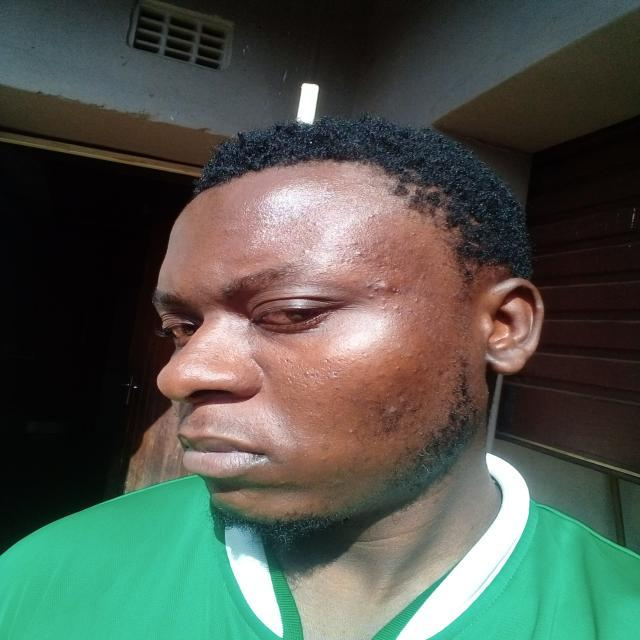acne: (376, 278, 394, 294), (364, 282, 378, 300), (384, 404, 400, 418), (300, 246, 312, 256), (342, 428, 355, 436), (354, 250, 366, 258), (366, 211, 378, 219), (376, 372, 386, 380), (320, 443, 330, 451), (410, 231, 420, 239), (378, 304, 388, 312), (394, 304, 402, 312), (420, 273, 428, 281), (412, 366, 420, 374), (394, 365, 402, 372), (396, 344, 404, 350), (350, 240, 358, 246), (412, 296, 420, 302), (320, 456, 326, 463), (308, 228, 315, 234), (312, 221, 320, 226)
pores: (276, 356, 350, 393)
